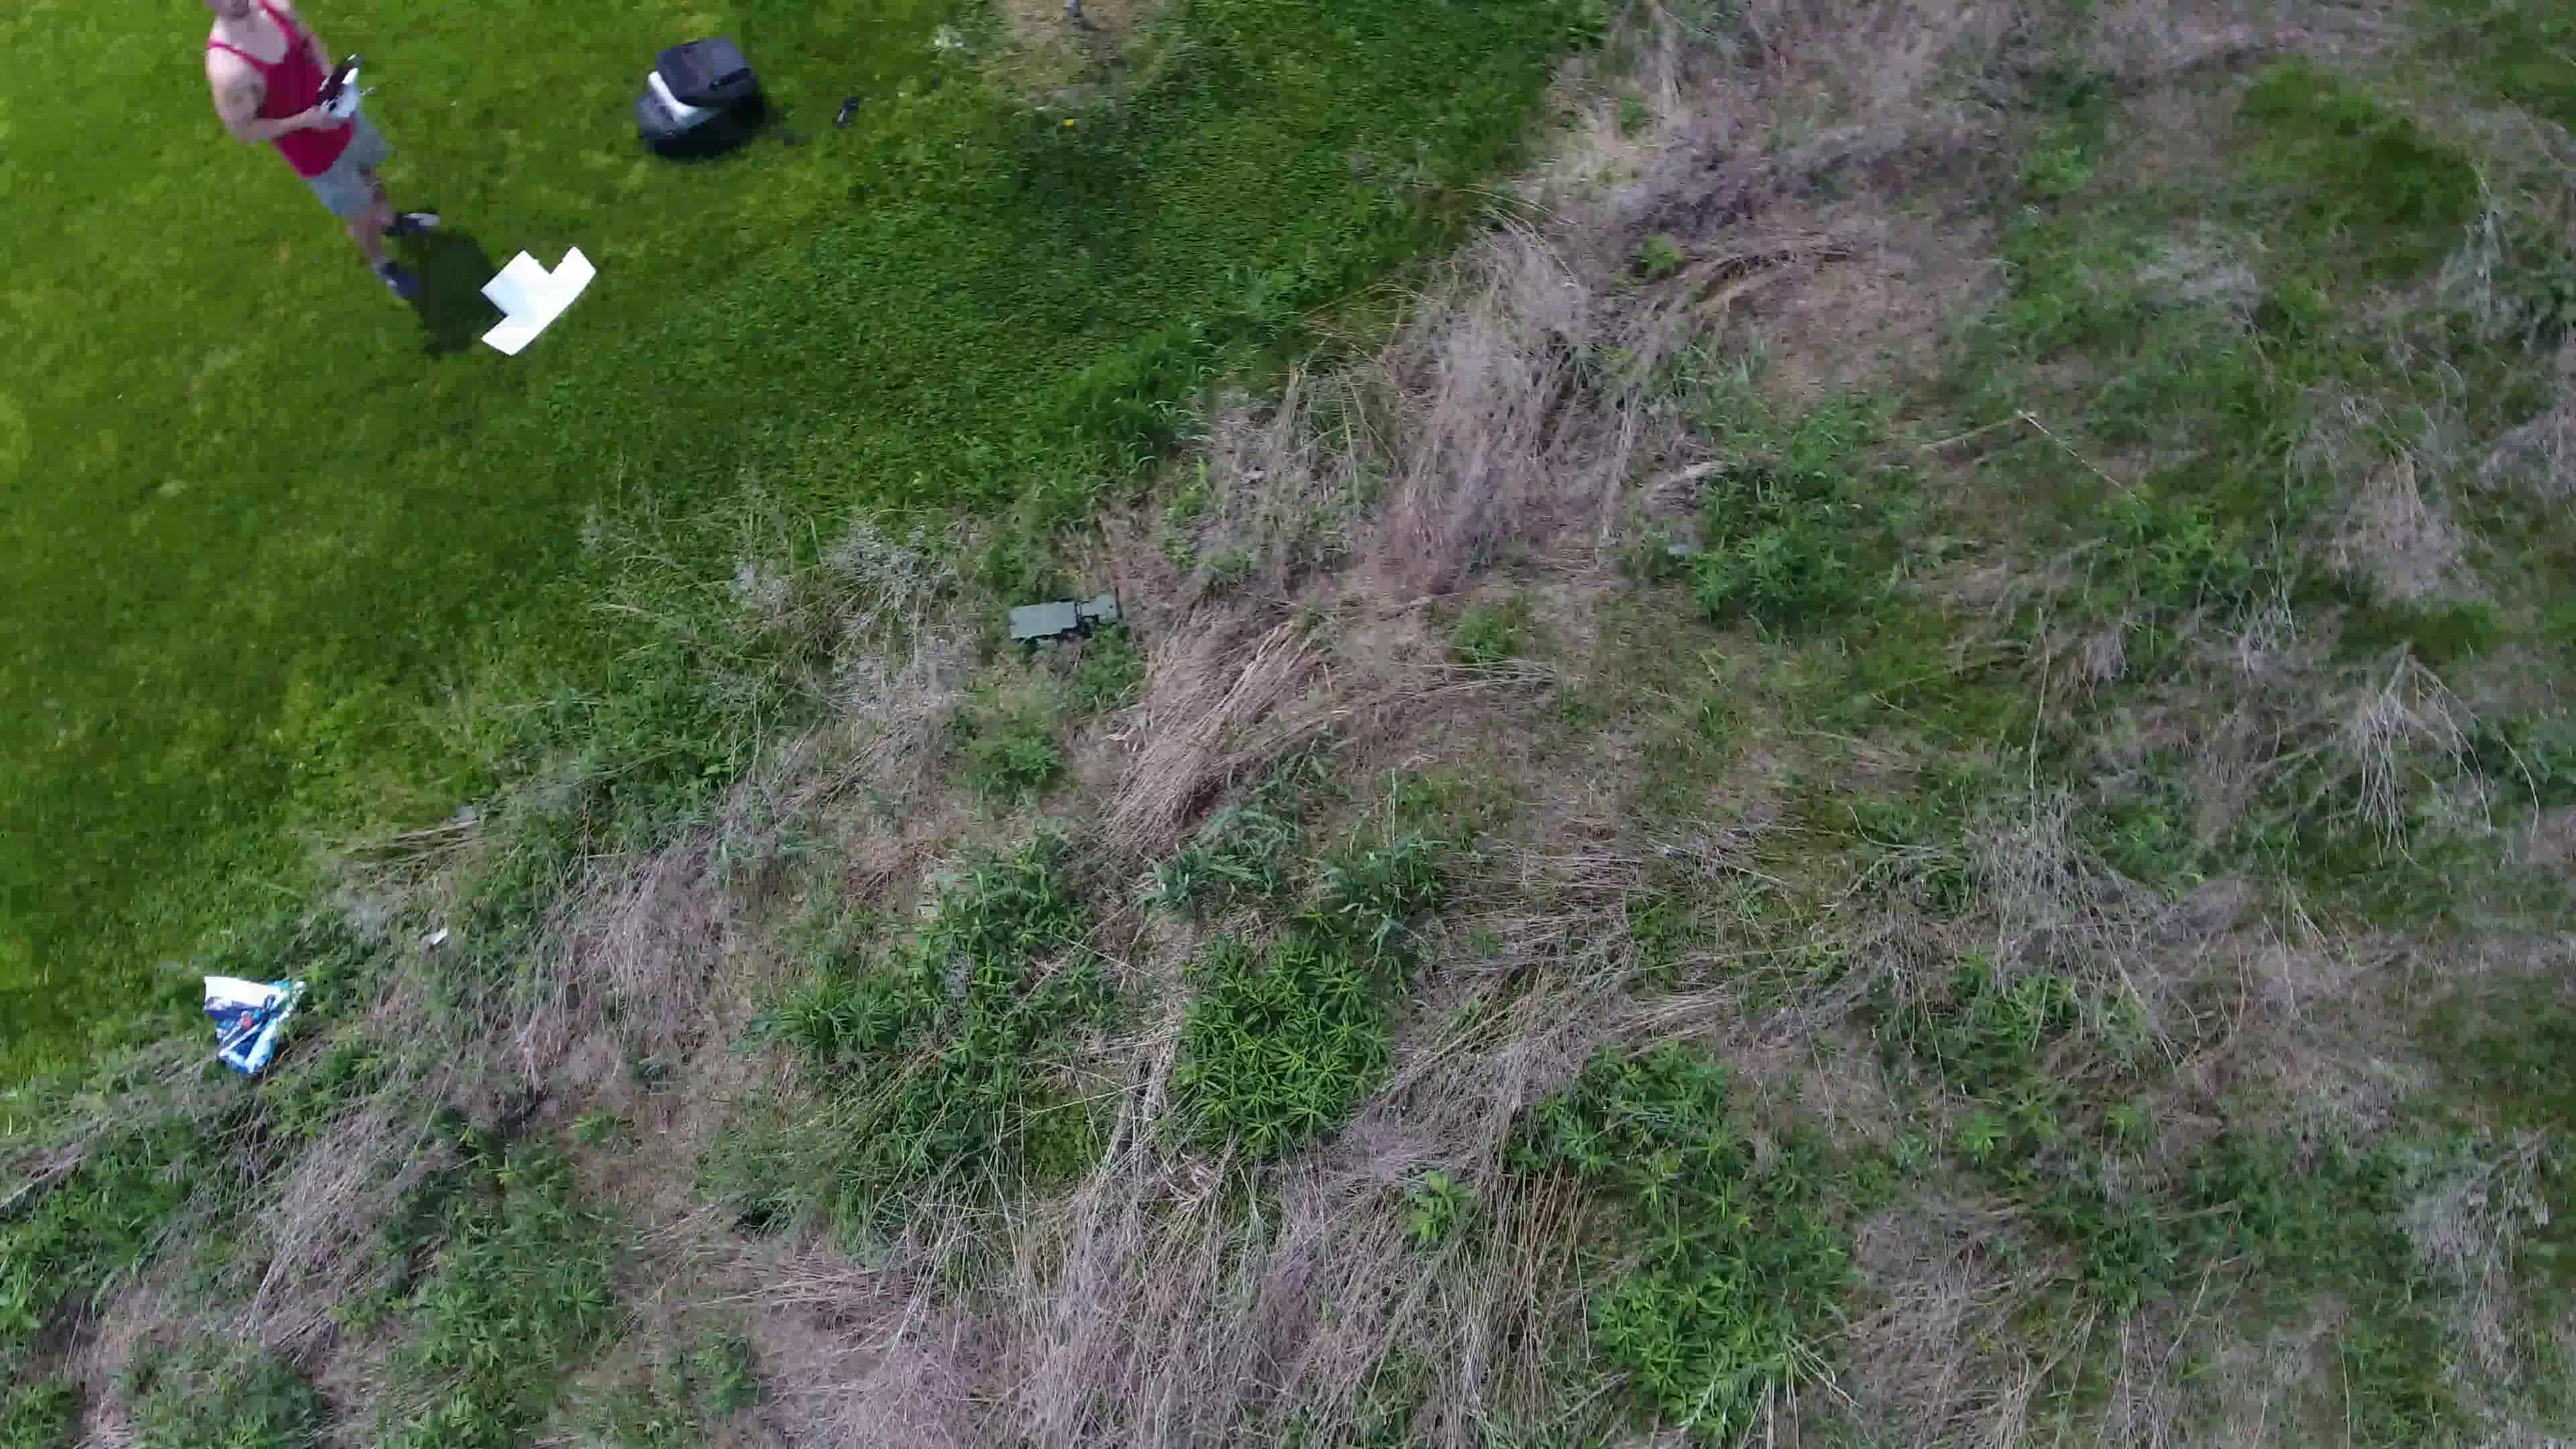transporter9: (1007, 586, 1123, 642)
